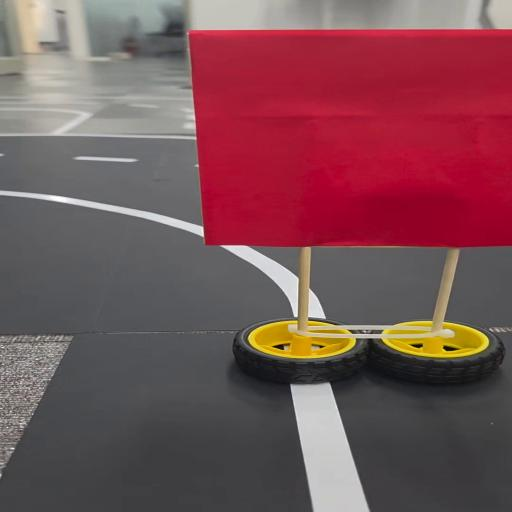Sign_A: (186, 32, 512, 419)
